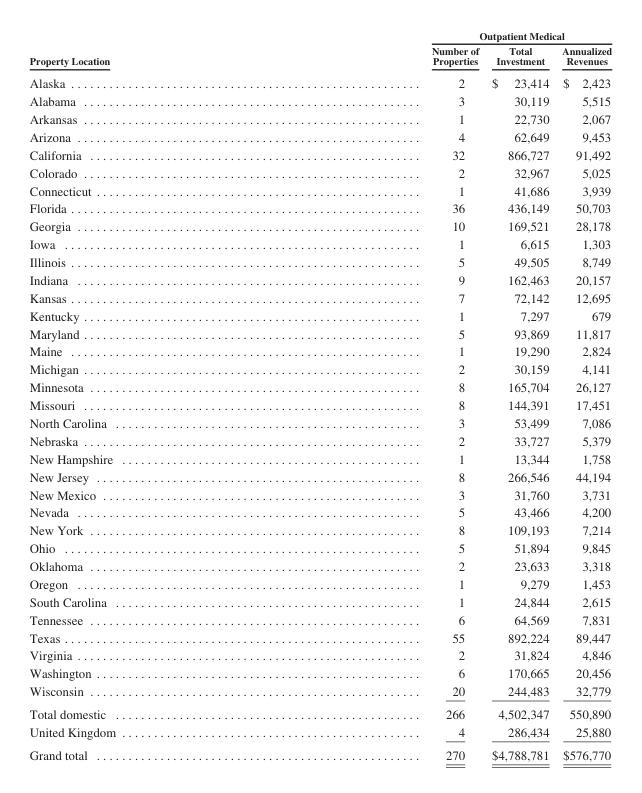table: (28, 29, 611, 761)
table column: (28, 29, 273, 761), (273, 29, 484, 761), (484, 29, 554, 761), (554, 29, 611, 761)
table column header: (28, 29, 611, 71)
table row: (28, 42, 611, 71), (28, 681, 611, 702), (28, 722, 611, 743), (28, 71, 611, 91), (28, 702, 611, 722), (28, 91, 611, 109), (28, 109, 611, 127), (28, 127, 611, 145), (28, 145, 611, 163), (28, 163, 611, 181), (28, 181, 611, 199), (28, 199, 611, 217), (28, 234, 611, 252), (28, 252, 611, 270), (28, 270, 611, 288), (28, 288, 611, 306), (28, 306, 611, 324), (28, 324, 611, 342), (28, 342, 611, 360), (28, 377, 611, 395), (28, 395, 611, 413), (28, 413, 611, 431), (28, 431, 611, 449), (28, 449, 611, 467), (28, 467, 611, 485), (28, 485, 611, 503), (28, 503, 611, 521), (28, 538, 611, 556), (28, 556, 611, 574), (28, 574, 611, 592), (28, 592, 611, 610), (28, 610, 611, 628), (28, 628, 611, 646), (28, 646, 611, 664), (28, 743, 611, 761), (28, 217, 611, 234), (28, 360, 611, 377), (28, 521, 611, 538), (28, 664, 611, 681), (28, 29, 611, 42)
table spanning cell: (28, 29, 273, 71), (273, 29, 611, 42)
